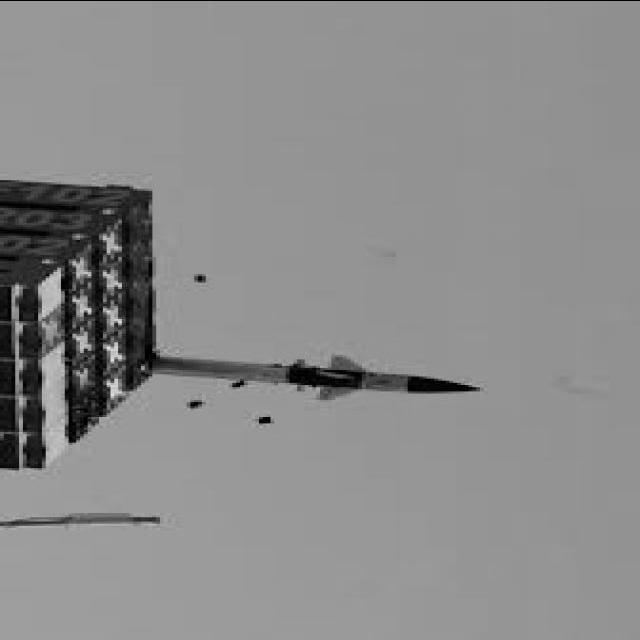Missile: (134, 344, 493, 411)
